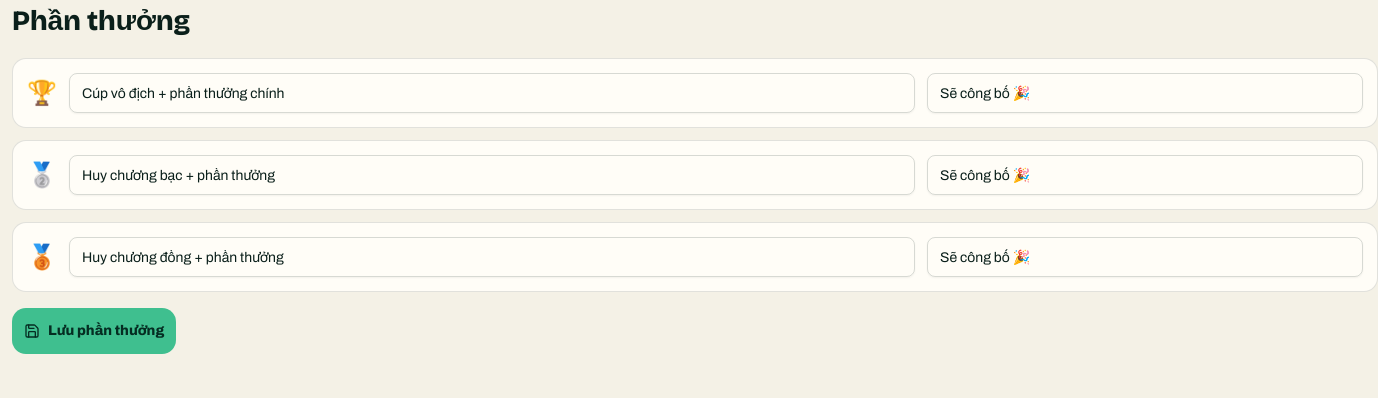
Test: RewardsEditor (characterization) › shows 'Không có quyền quản trị.' when the update returns no rows
This screenshot has width=1378, height=398.
Click the button "Lưu phần thưởng" at (94, 331), box [12, 308, 176, 354]
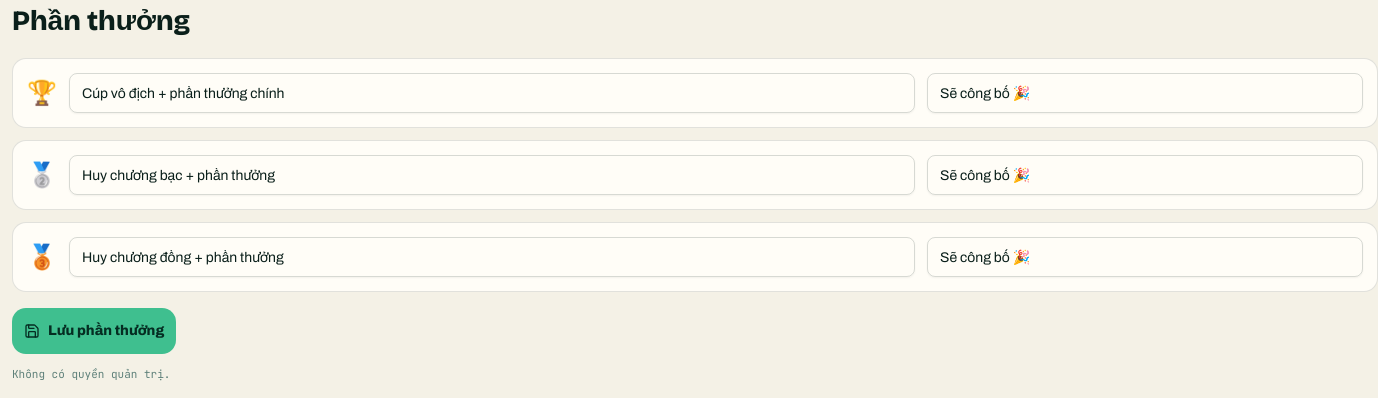
Now the text "Không có quyền quản trị." is shown, box [12, 367, 170, 381]
